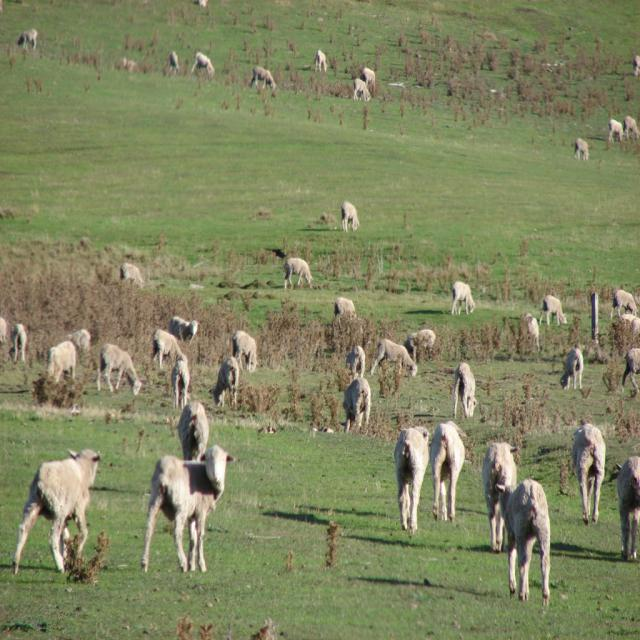Sheep: (0, 201, 640, 607), (190, 52, 217, 80), (250, 66, 276, 88), (16, 28, 38, 49), (354, 79, 372, 100), (624, 116, 637, 140), (361, 68, 376, 88), (315, 50, 328, 72), (576, 141, 590, 161), (610, 120, 624, 140), (170, 50, 179, 69), (634, 56, 640, 75)
